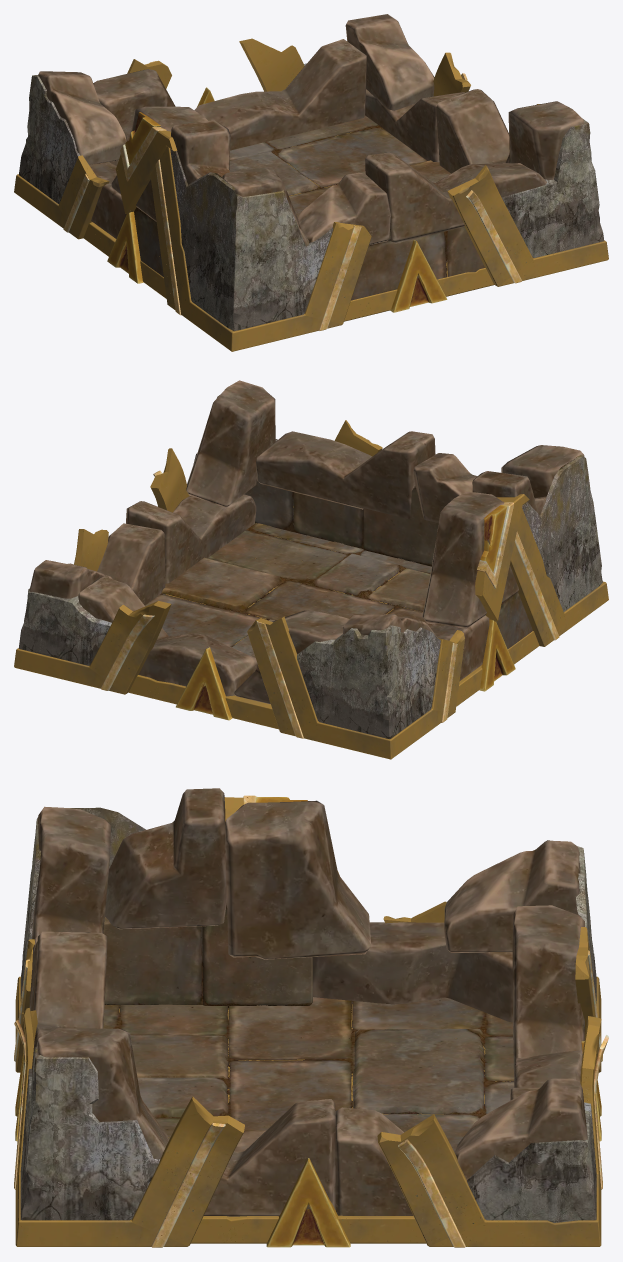
The picture shows the model from 3 angles, top to bottom: view 1: azimuth 30°, elevation 25°; view 2: azimuth 150°, elevation 25°; view 3: azimuth 270°, elevation 25°; orthographic projection. The views are drawn at different scales.
Visible parts, largest first — view 1: SM_DK_16m_TowerMid_03_LOD0; view 2: SM_DK_16m_TowerMid_03_LOD0; view 3: SM_DK_16m_TowerMid_03_LOD0.
Boxes of the visible parts, x1,y1,x2,y2 form: SM_DK_16m_TowerMid_03_LOD0: (14, 14, 608, 351); SM_DK_16m_TowerMid_03_LOD0: (14, 380, 608, 759); SM_DK_16m_TowerMid_03_LOD0: (14, 788, 608, 1247).
Size of the model in its own units: 6.39 by 2.69 by 6.45.
Materials: 5 (5 with a texture image).
